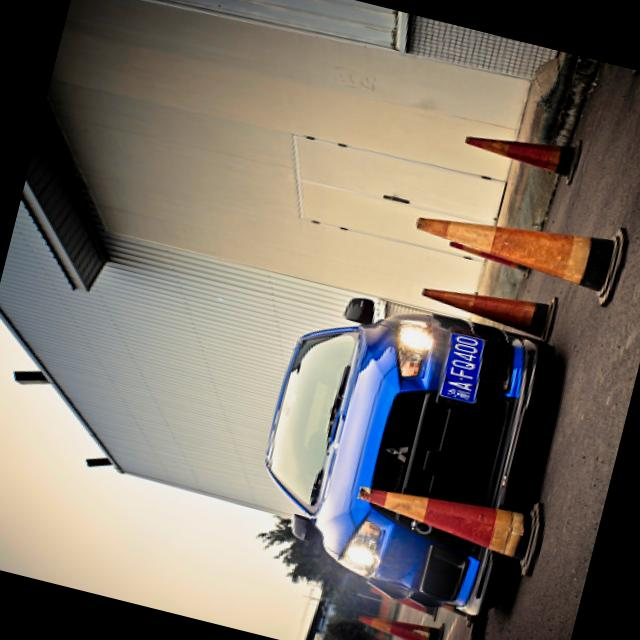cone: (386, 175, 635, 312), (350, 458, 549, 566)
